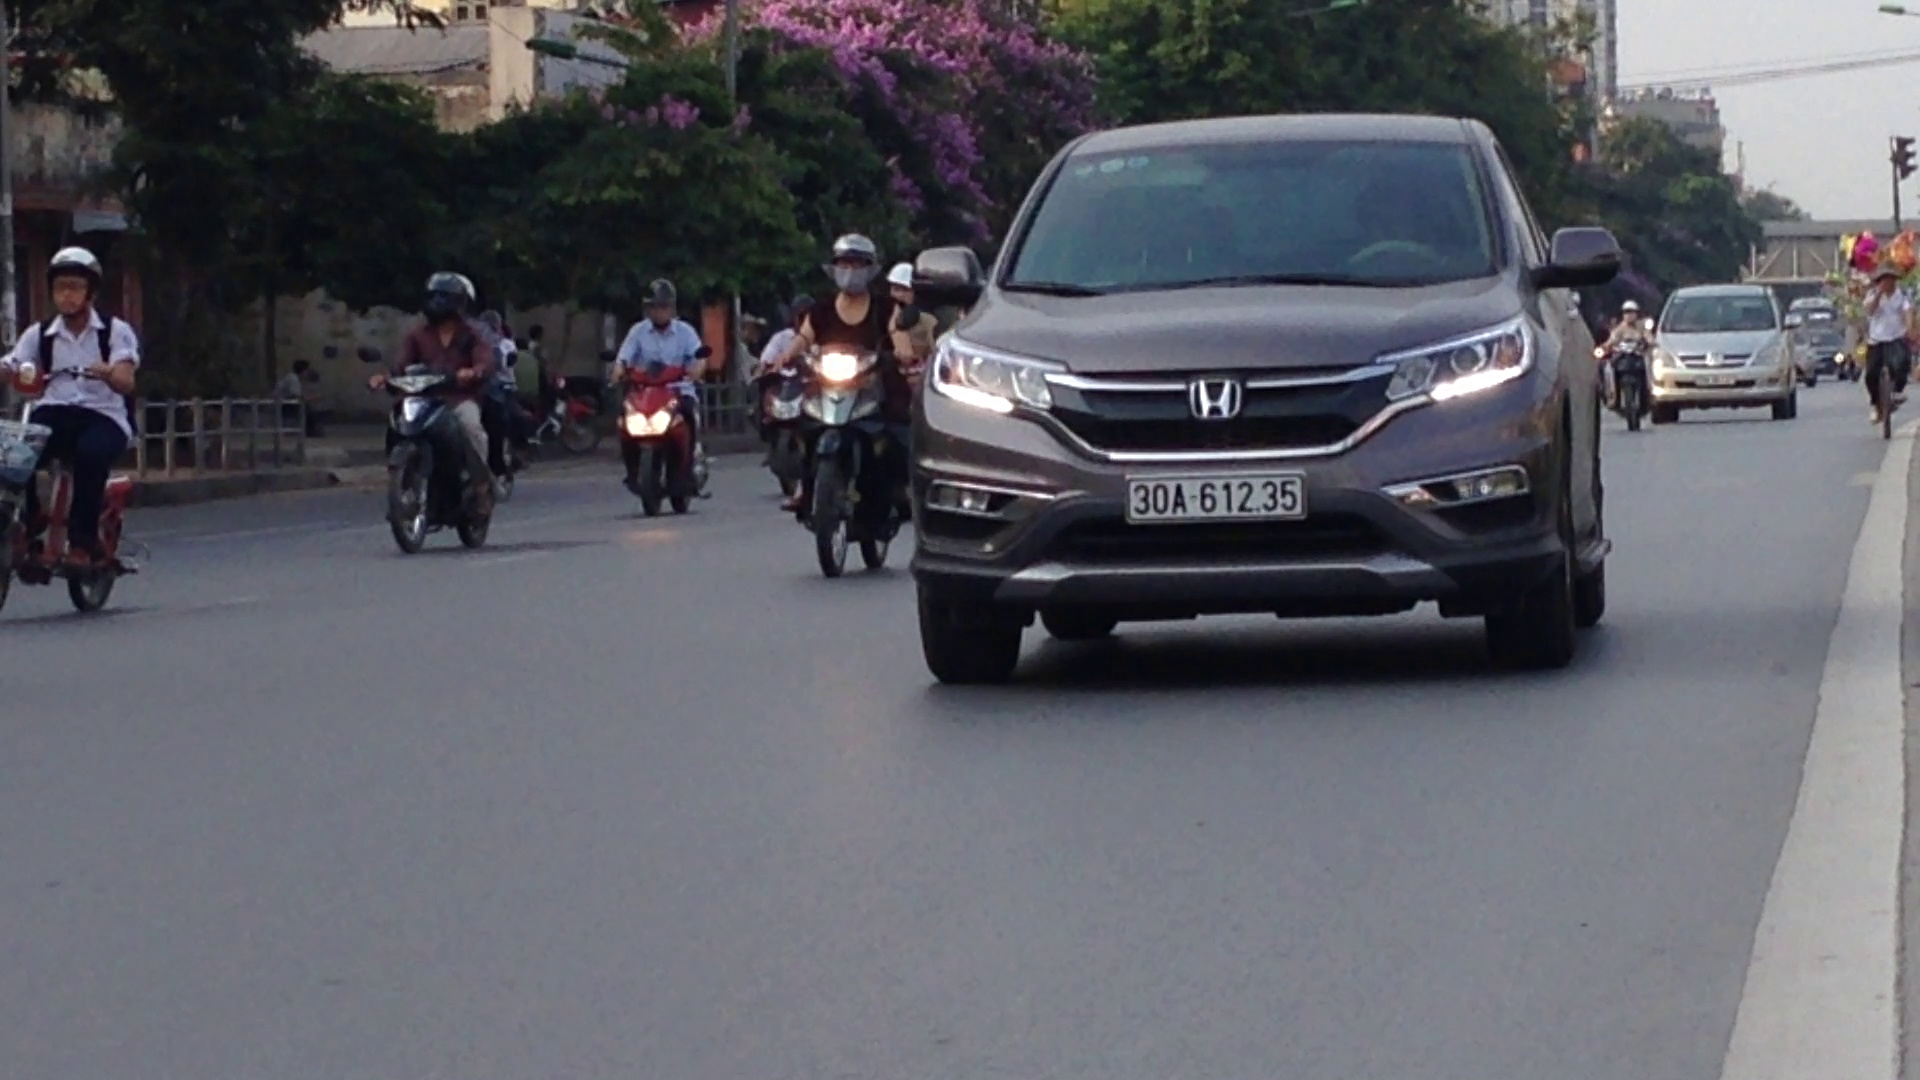person: (1120, 466, 1308, 521)
